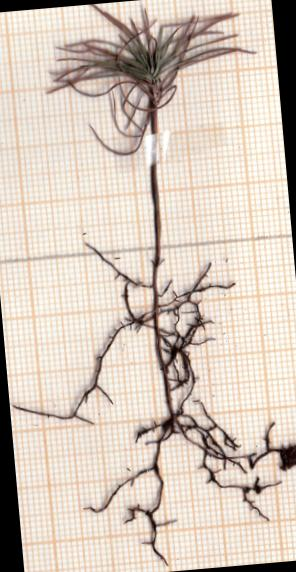flower: (35, 0, 267, 163)
root: (2, 249, 296, 572)
stem: (140, 113, 171, 262)
